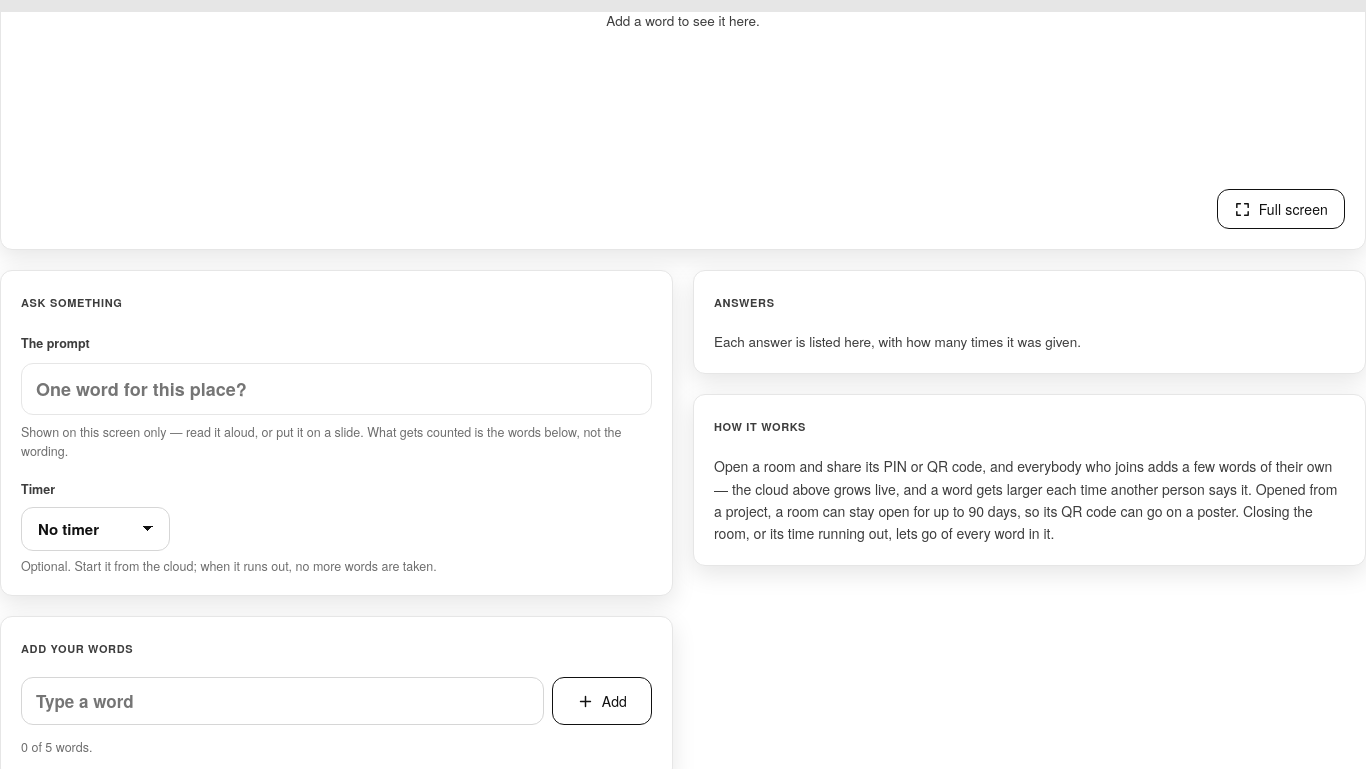
Test: Word Cloud › shows the prompt as it was written, in the corner of the cloud card
(page scrolled)
Type "What is missing here?" into the field labelled "The prompt" at (336, 389), box [21, 363, 652, 415]
(page scrolled)
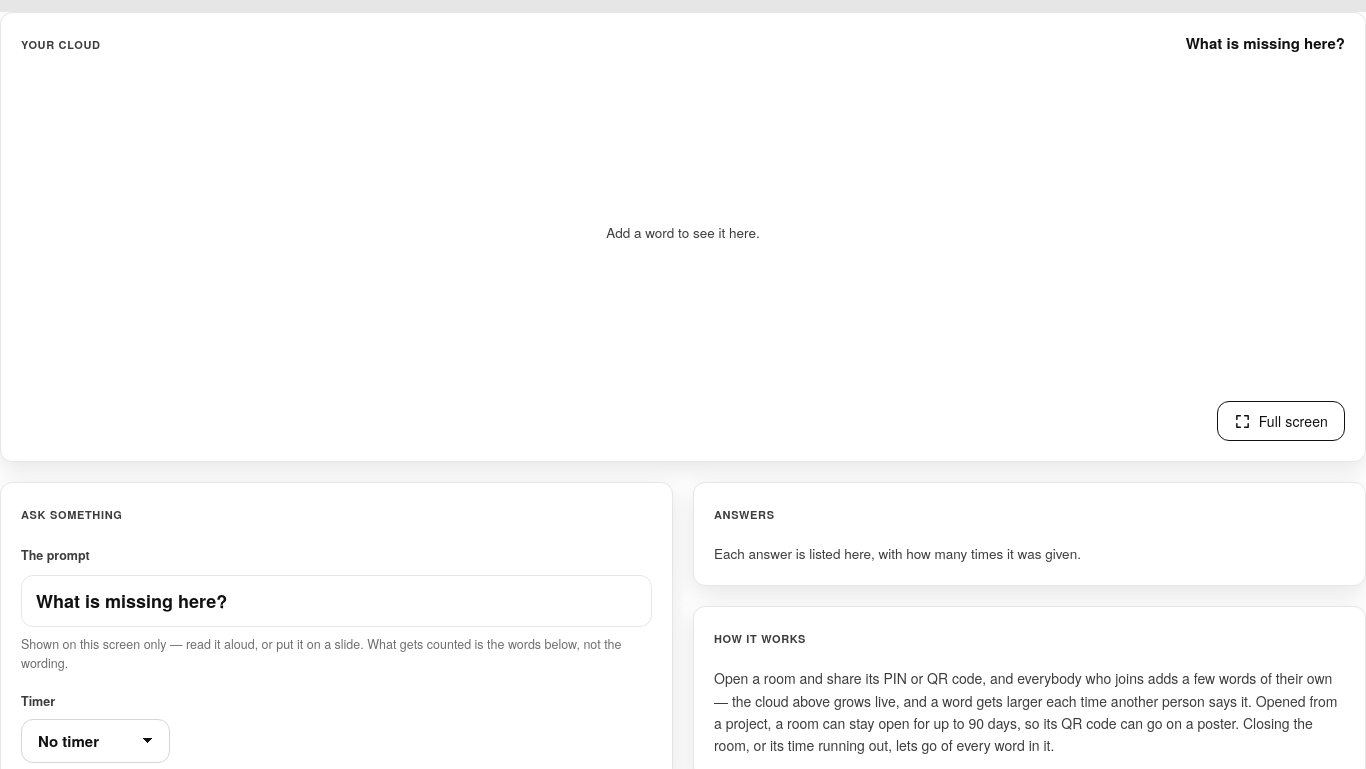
Check: the text "What is missing here?" is shown, box [1186, 33, 1345, 53]
